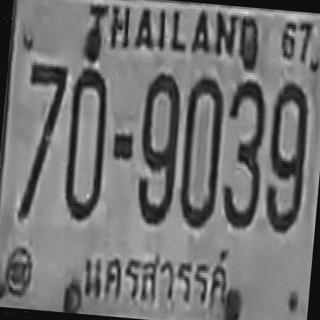N00: (176, 74, 226, 229), (61, 66, 110, 221)
N03: (218, 78, 268, 229)
N07: (17, 61, 68, 220), (20, 60, 68, 206), (23, 60, 68, 168)
N09: (262, 78, 311, 233), (134, 70, 182, 225)
P31: (73, 234, 236, 319)
